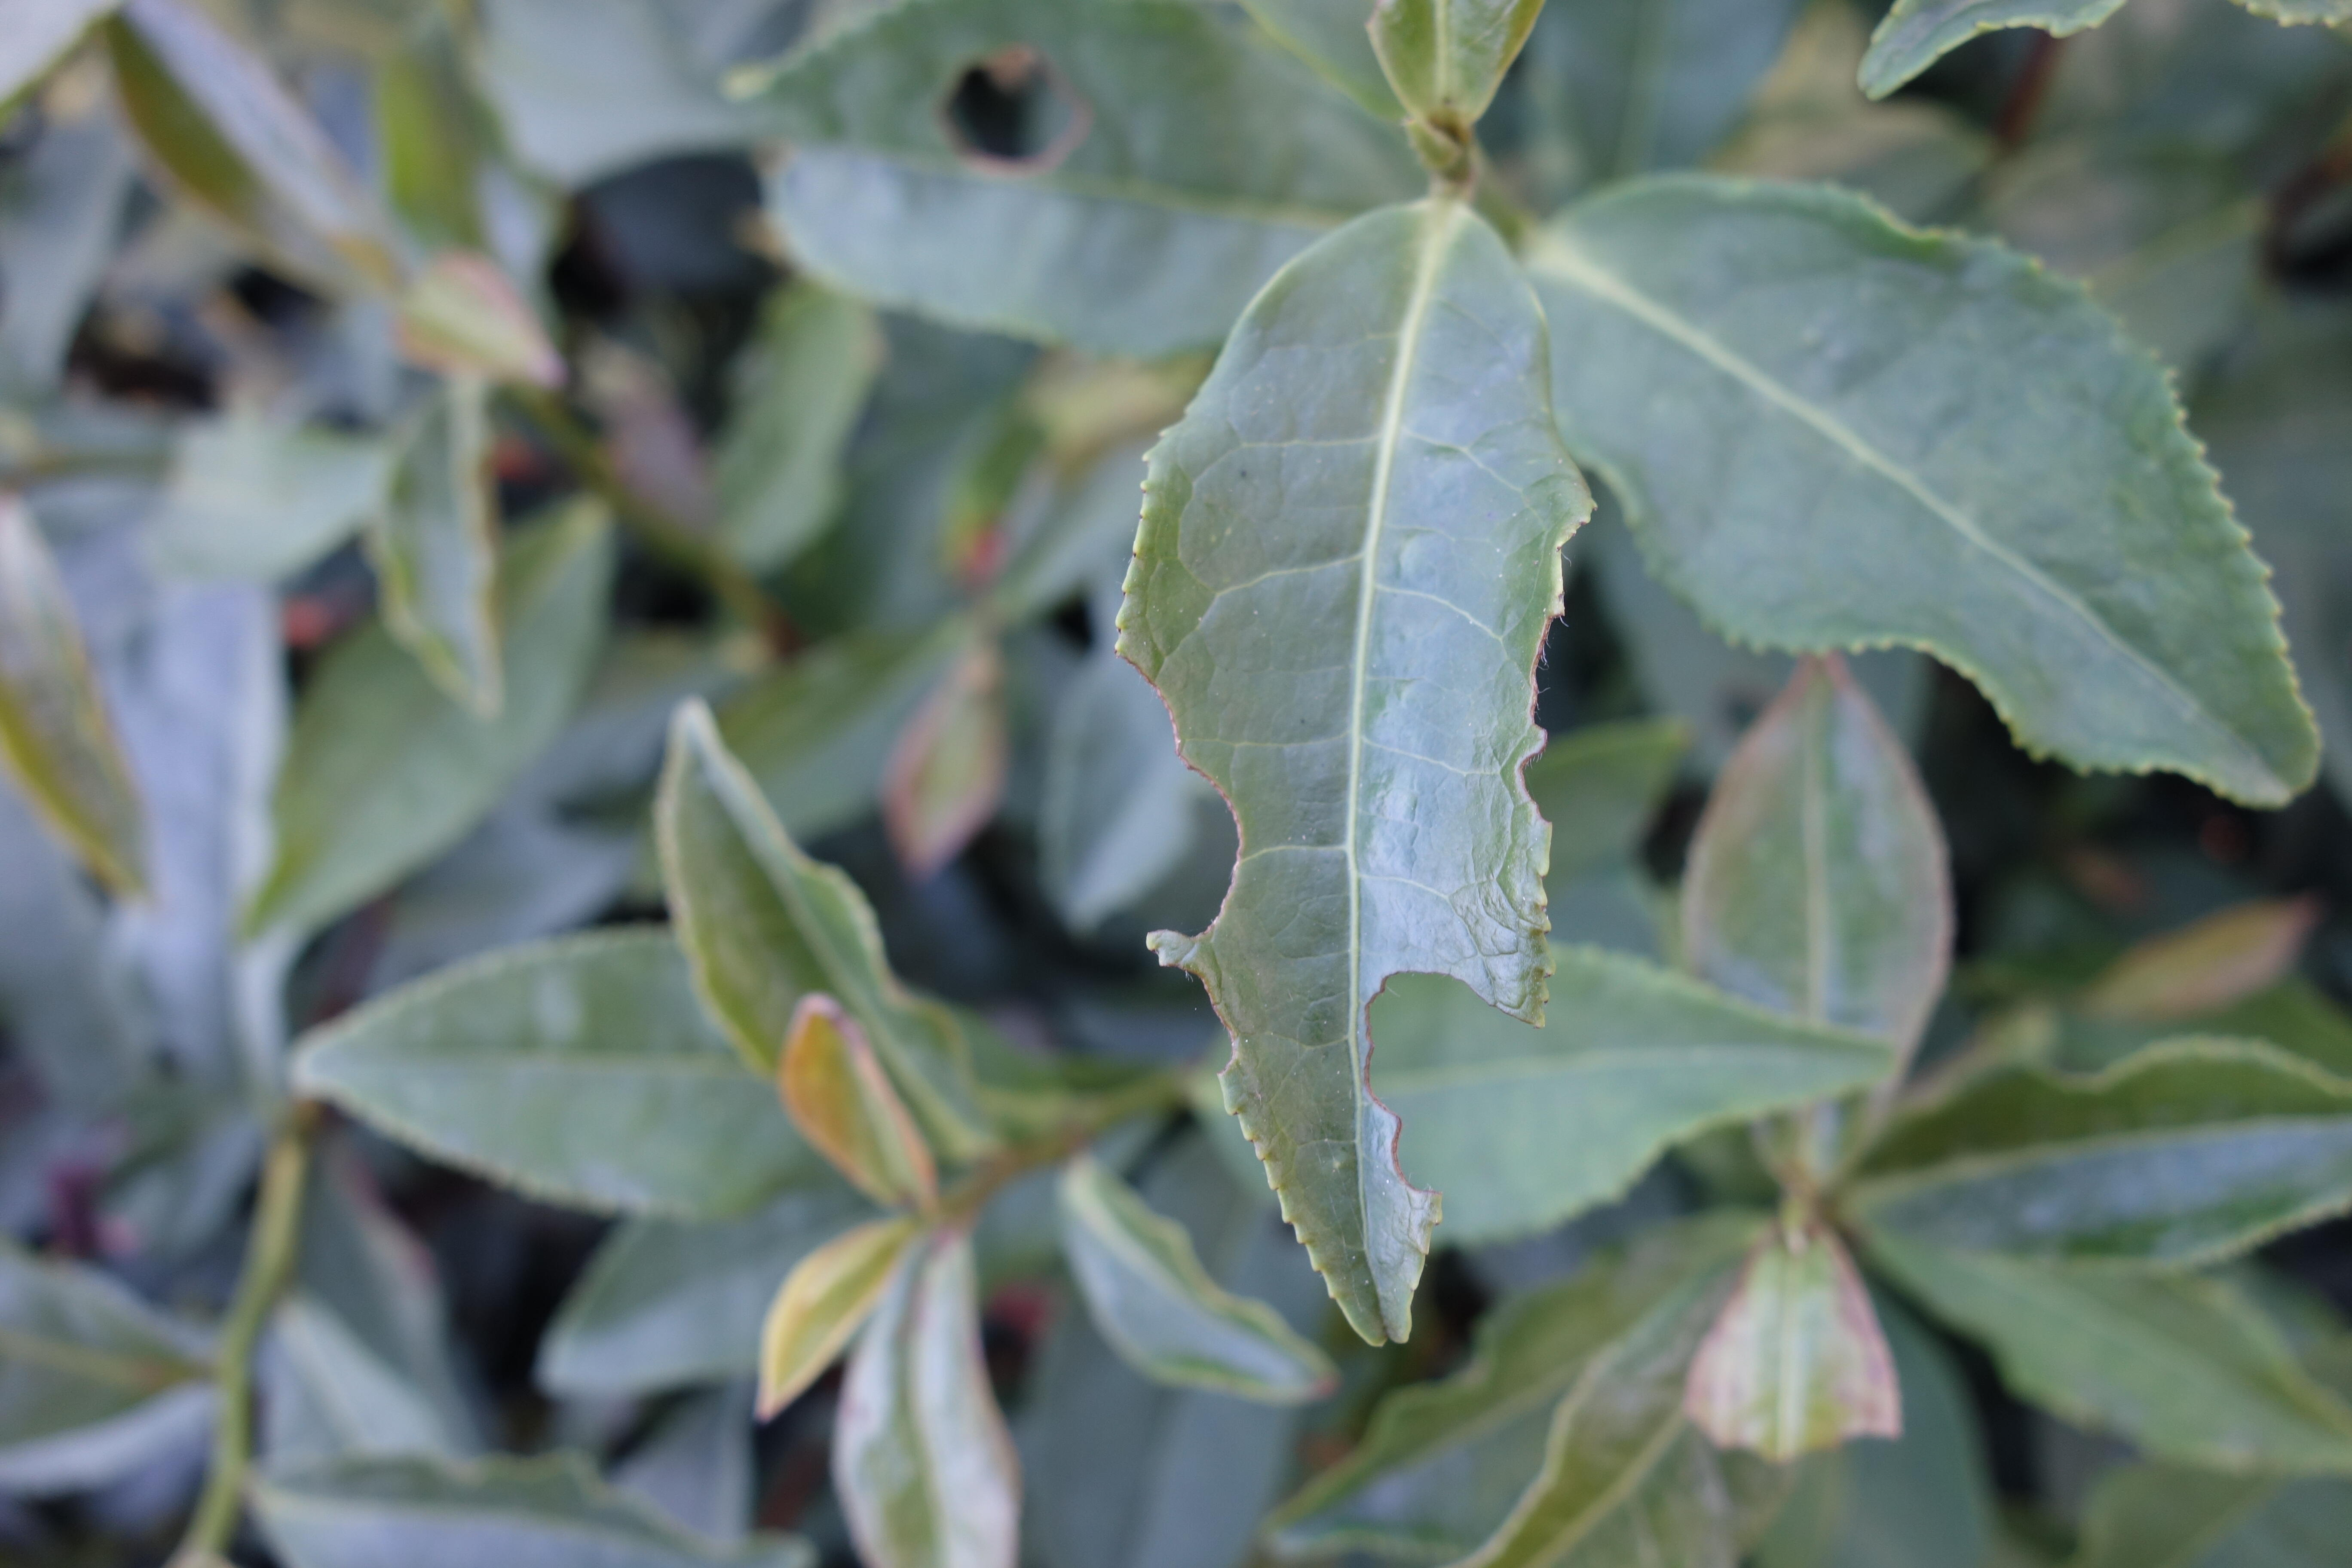chihuo_high: (1109, 198, 1596, 1344)
healthy: (1531, 168, 2327, 812)
